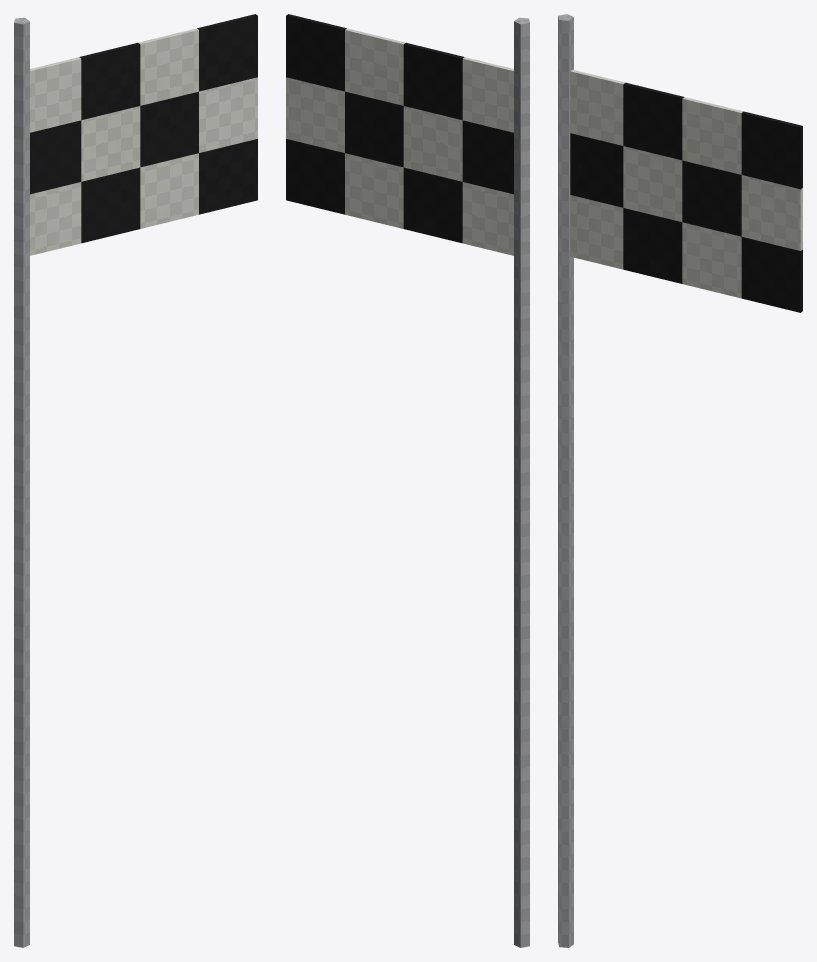
The model's file is bandeira_xadrez.glb.
The picture shows the model from 3 angles, left to right: view 1: azimuth 30°, elevation 25°; view 2: azimuth 150°, elevation 25°; view 3: azimuth 330°, elevation 25°; orthographic projection.
Parts seen in each view (by area): view 1: Inteiro; view 2: Inteiro; view 3: Inteiro.
Part boxes in pixels (left/top/right/bottom): Inteiro: left=14, top=14, right=257, bottom=947; Inteiro: left=286, top=14, right=529, bottom=947; Inteiro: left=558, top=14, right=802, bottom=947.
Bounding box in the file's own units: 0.495 × 1.8 × 0.0285.
Materials: 1 (1 with a texture image).
